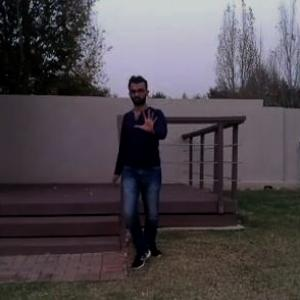follow_hand: (132, 104, 161, 137)
